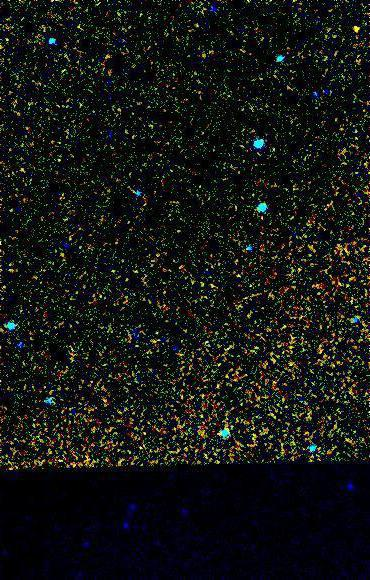star: (339, 16, 369, 46)
